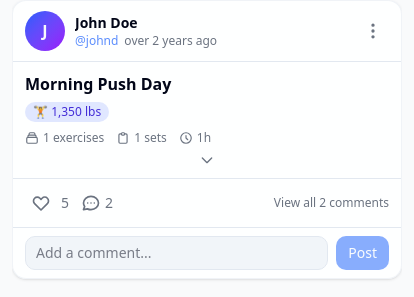
Test: FeedWorkoutCard › should toggle comments when comment button is clicked
Expected: the button "View all 2 comments" is shown, [274,195,389,211]
Click the button "2": (97, 203) [81,193,113,213]
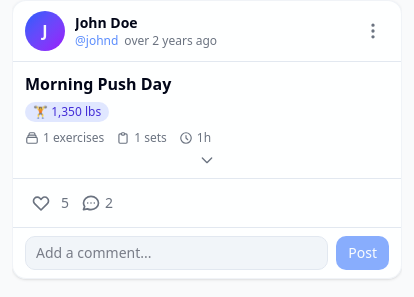
Expected: the button "View all 2 comments" is gone
